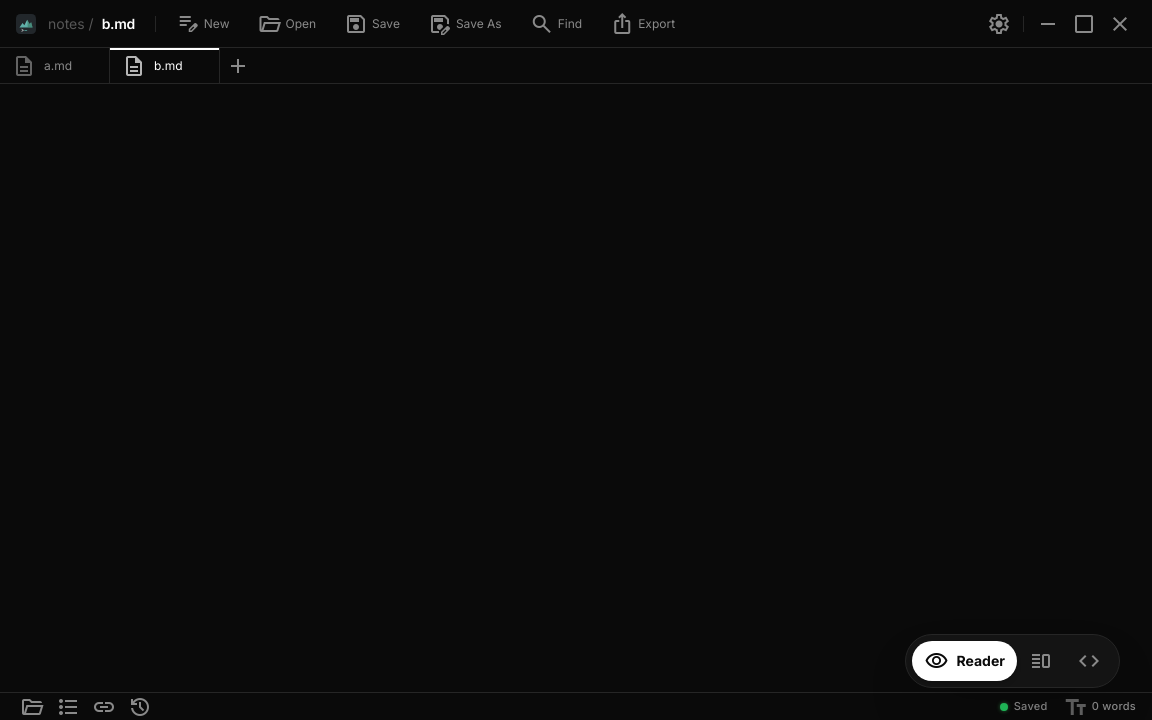
Scenario: App external conflict › a background tab's autosave does not overwrite a change to its file
The width and height of the screenshot is (1152, 720).
Press the mouse on the tab "a.md" at (55, 66), box [0,48,110,83]
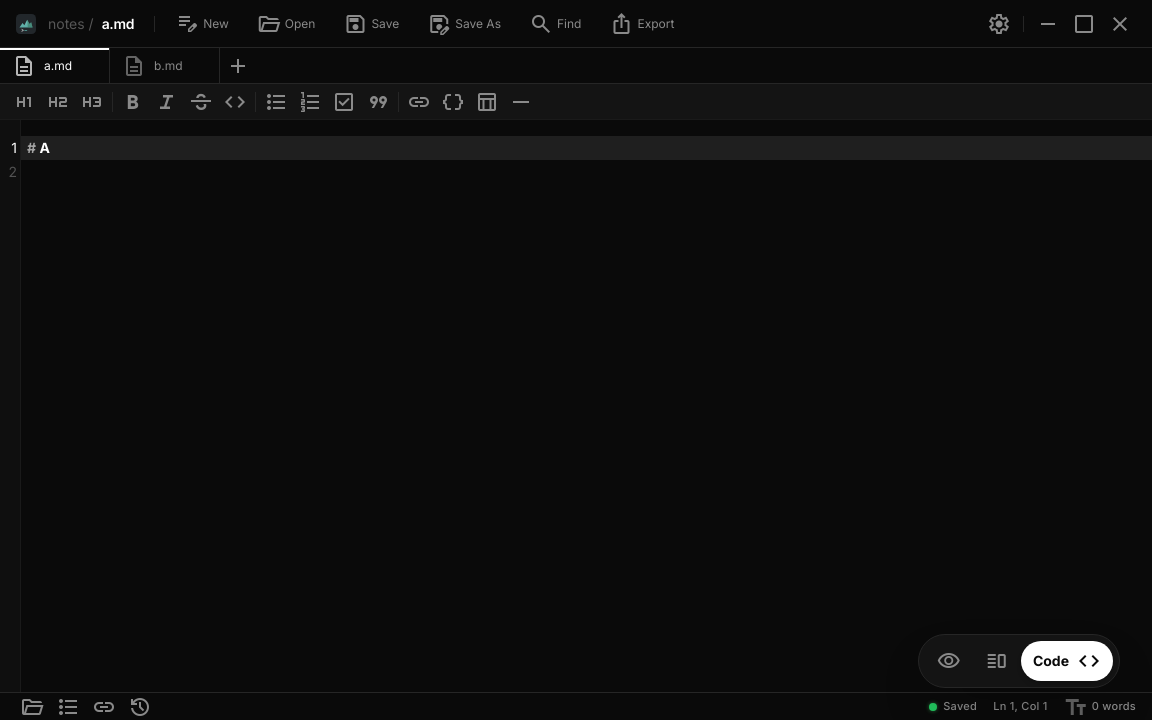
Click the button named "bold" at (133, 102), box [117,86,149,118]
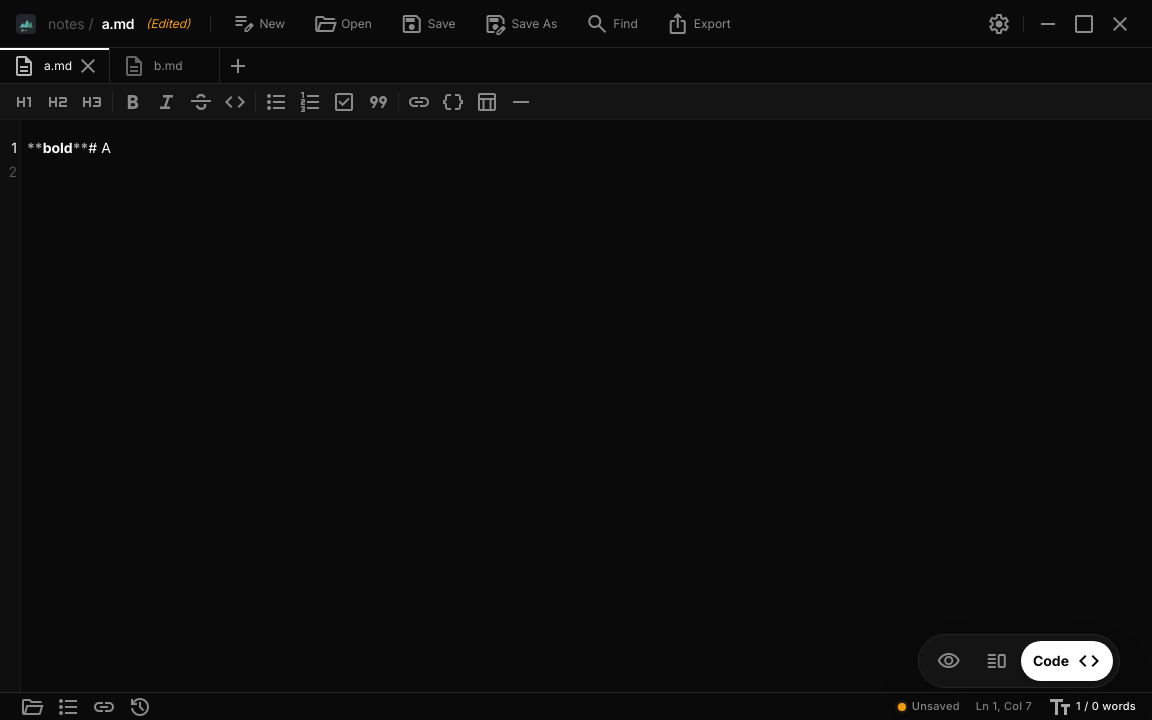
Check: the text "Unsaved" is shown, box [912,698,960,715]
Press the mouse on the tab "b.md" at (165, 66), box [110,48,220,83]
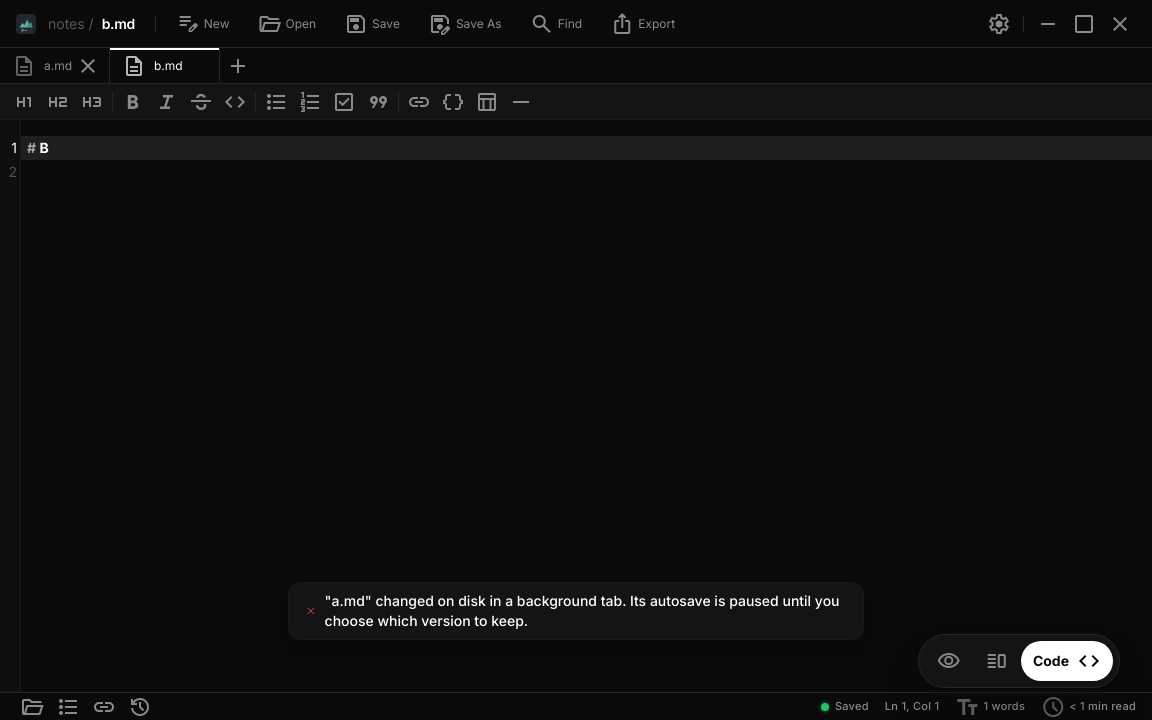
Check: the text "background tab" is shown, box [325,592,840,629]
Press the mouse on the tab "a.md" at (55, 66), box [0,48,110,83]
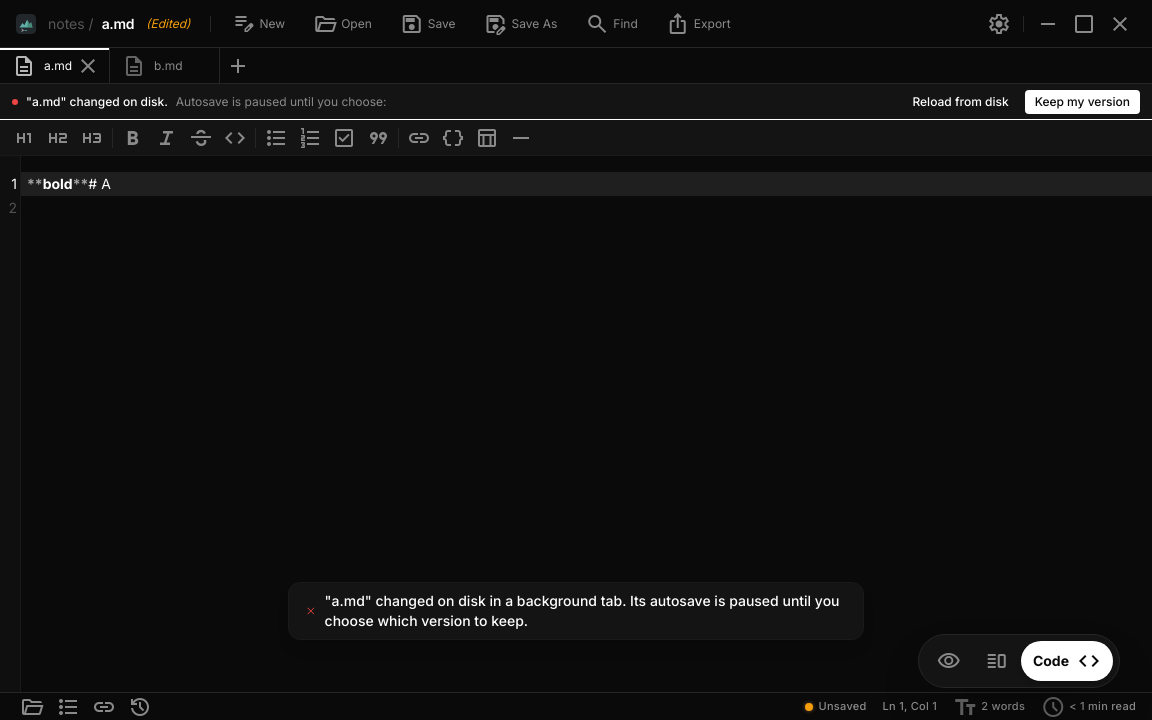
Check: the button "Keep my version" is shown, box [1025,90,1140,114]
Check: the field with class "cm-content" shows "**", box [21,172,1151,196]
